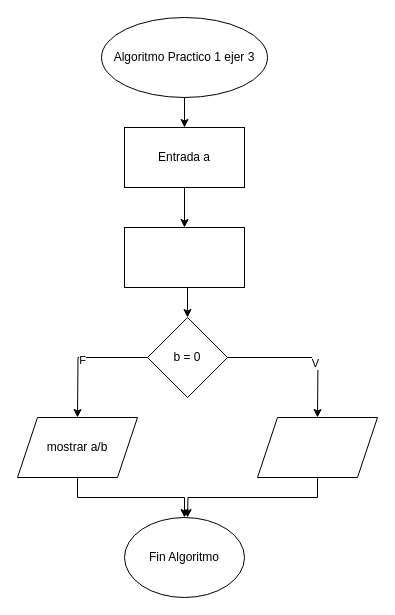
Image size: 395x615. Some labels were removed from this diagram. The shapes that lost their labels are listed below. From the top down, each one's centre as x and y in pixels, then its label:
point (184, 257): Entrada b
point (317, 447): mostrar "Imposible"
